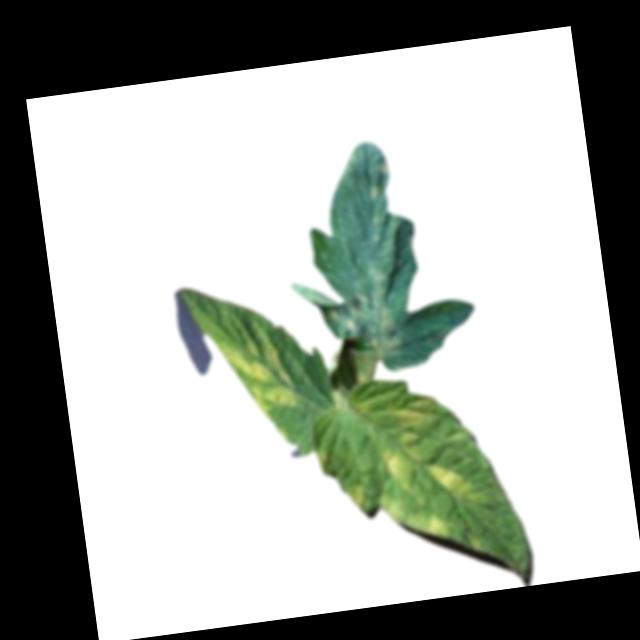Leaf_Mold: (326, 265, 411, 365), (219, 332, 304, 418), (393, 393, 442, 444), (428, 457, 482, 503), (380, 448, 412, 488), (342, 479, 375, 511), (424, 508, 455, 541)
